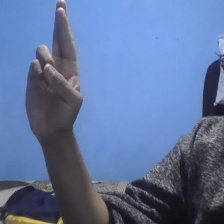R: (21, 1, 87, 141)
